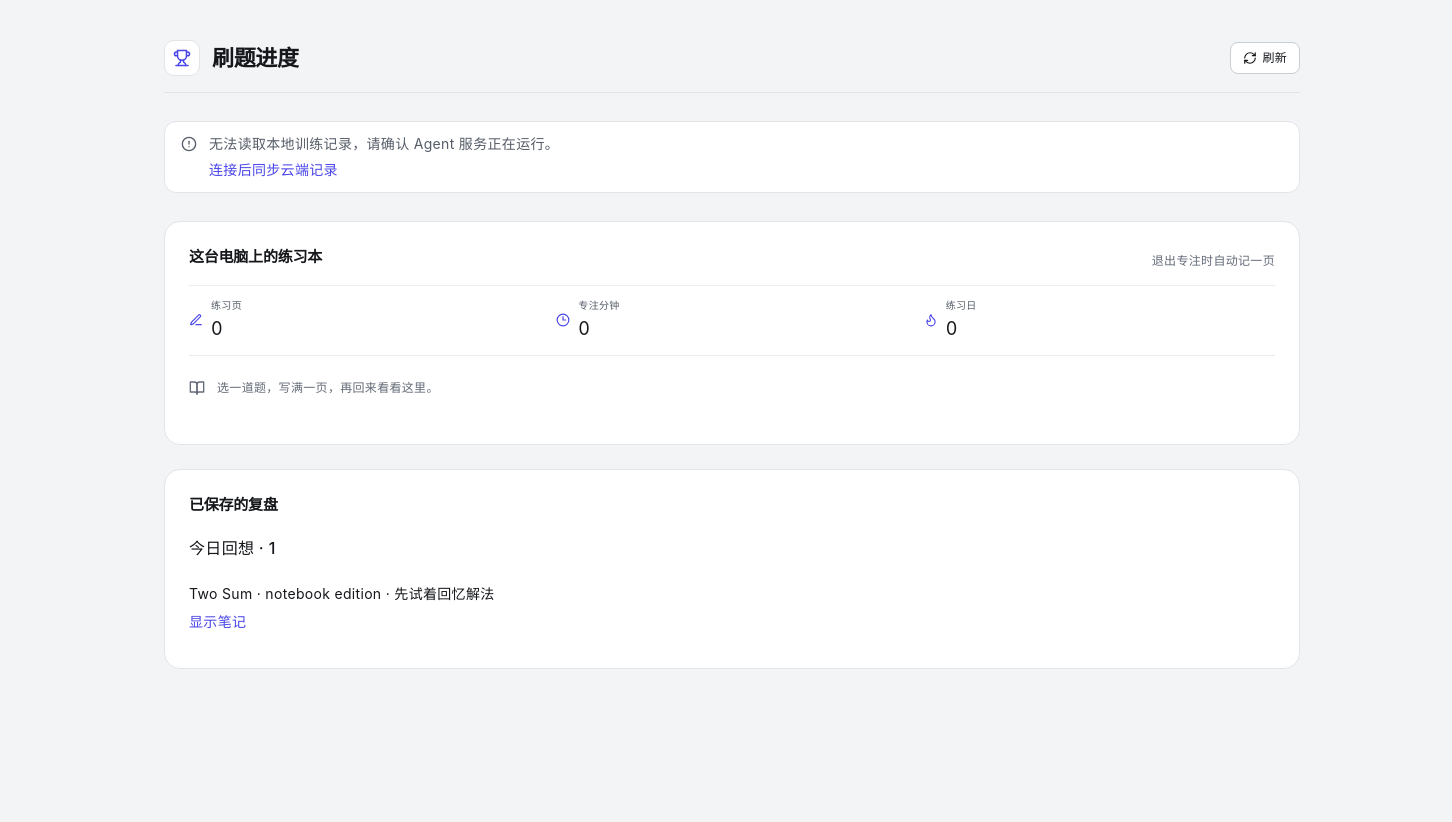
keeps a saved review usable after the practice record is evicted and preserves an existing chat draft
The width and height of the screenshot is (1452, 822).
Expected: the text "复杂度为 O(n)" is not shown
Click the button "显示笔记": (218, 622) [189, 612, 246, 632]
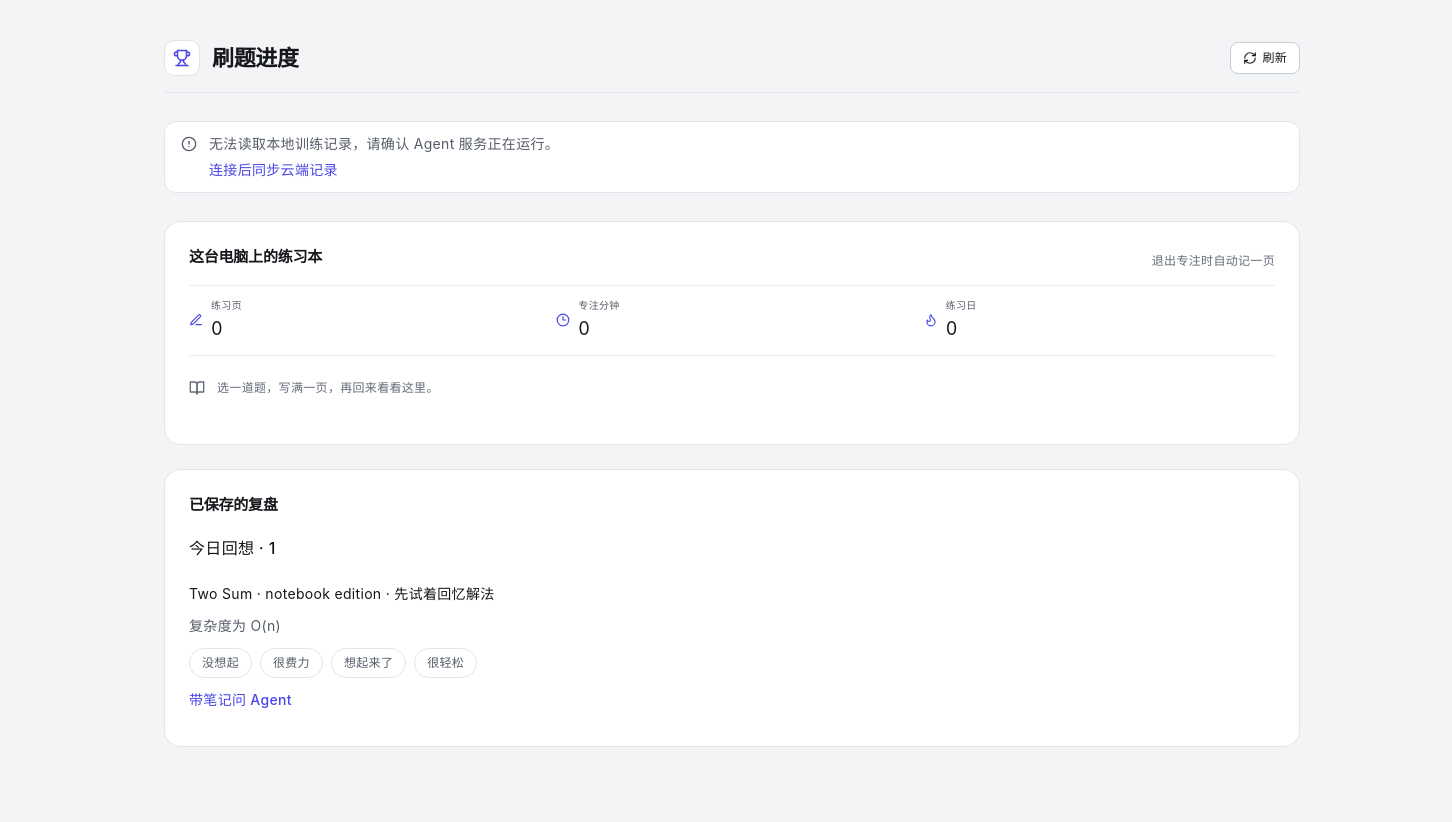
Expected: the text "复杂度为 O(n)" is shown, [189, 617, 281, 634]
Click the button "带笔记问 Agent": (240, 700) [189, 690, 292, 710]
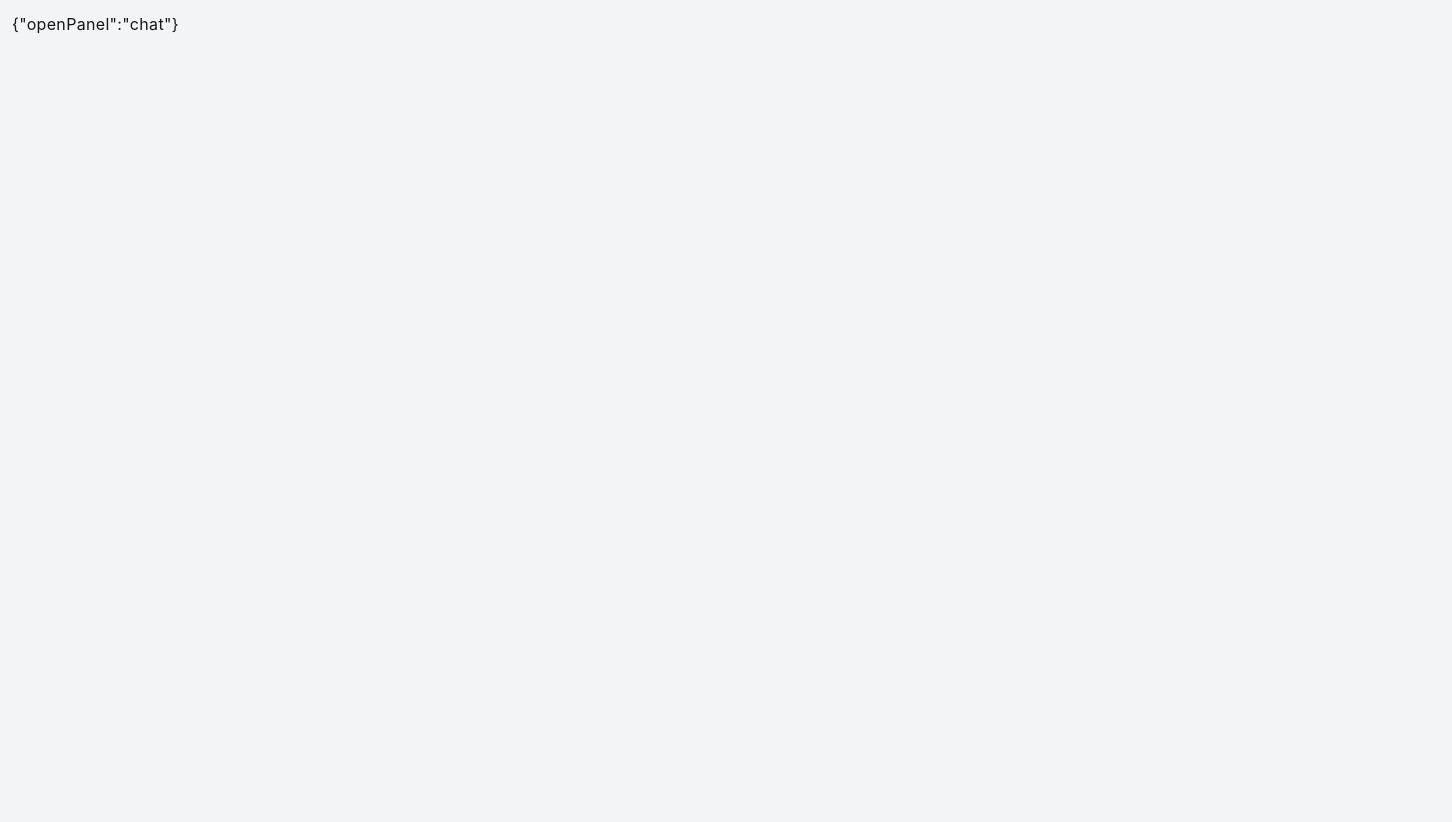
Expected: the text "chat" is shown, [12, 14, 179, 34]
